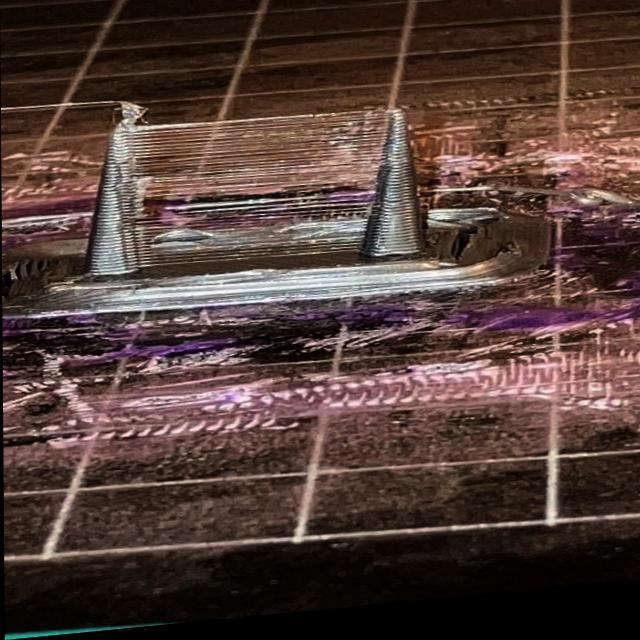stringing: (120, 107, 393, 286)
